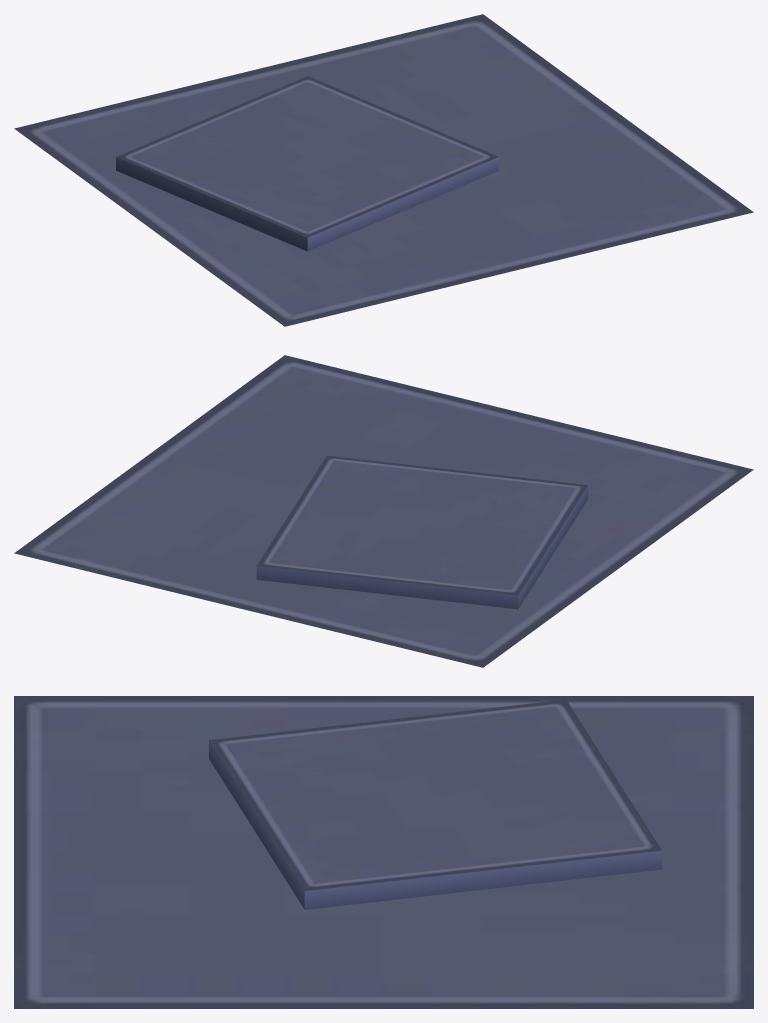
The model's file is template-floor-detail.glb.
3 views of the same model, one above another, from view 1: azimuth 30°, elevation 25°; view 2: azimuth 150°, elevation 25°; view 3: azimuth 270°, elevation 25° (orthographic). The views are drawn at different scales.
Visible parts, largest first — view 1: template-floor-detail; view 2: template-floor-detail; view 3: template-floor-detail.
Part boxes in pixels (left/top/right/bottom): template-floor-detail: left=14, top=14, right=753, bottom=326; template-floor-detail: left=14, top=355, right=753, bottom=667; template-floor-detail: left=14, top=696, right=753, bottom=1008.
Bounding box in the file's own units: 4 × 0.1123 × 4.
1 material, 1 textured.
